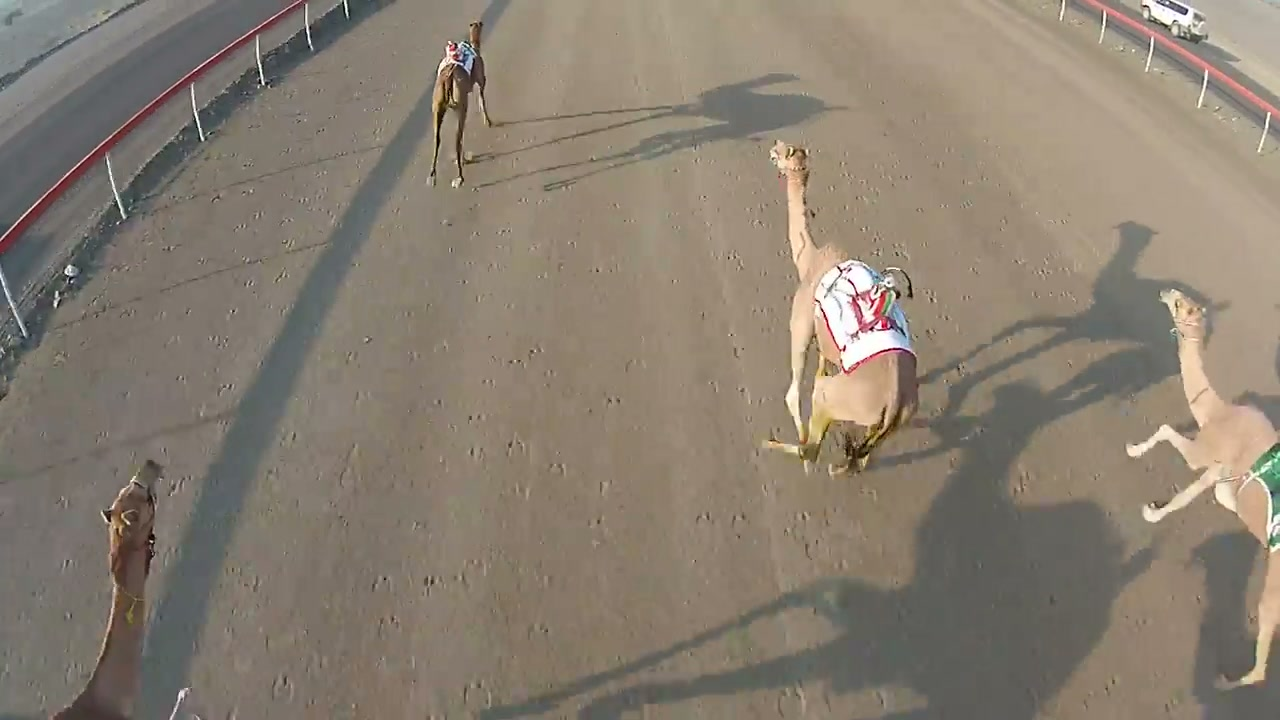animal_footprint: (417, 322, 619, 537)
